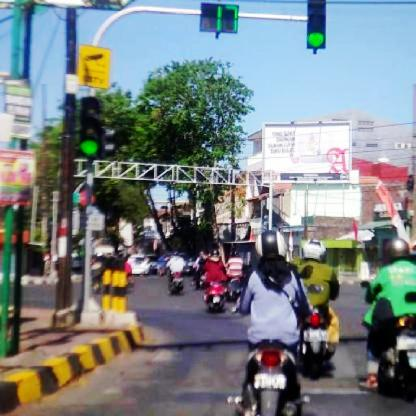Traffic Light -Green-: (82, 96, 101, 158), (307, 0, 325, 50)
